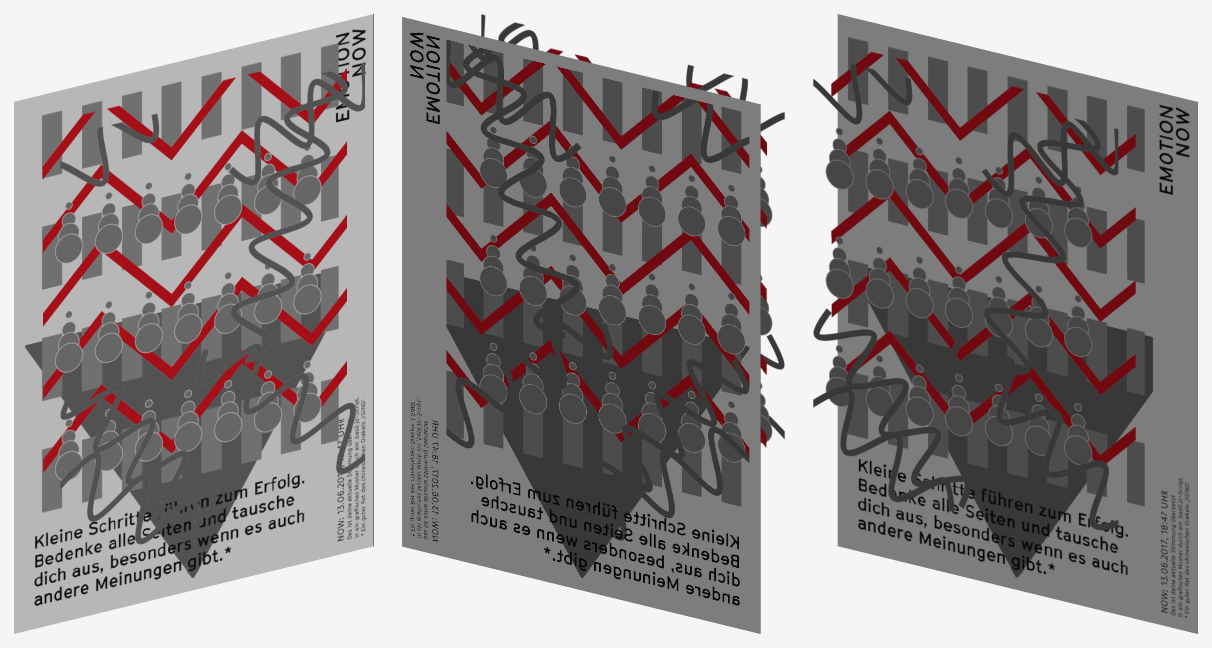
Rendered from emotion_now.glb.
3 renders of one model, left to right at view 1: azimuth 30°, elevation 25°; view 2: azimuth 150°, elevation 25°; view 3: azimuth 330°, elevation 25°, orthographic.
Parts seen in each view (by area): view 1: 01 BG remove expand, 03 rec, 05 round, 04 zigzac, 06 all curves, 01 BG original; view 2: 01 BG original, 06 all curves, 05 round, 04 zigzac; view 3: 01 BG remove expand, 03 rec, 05 round, 04 zigzac, 06 all curves, 01 BG original.
Boxes of the visible parts, <box> form: 01 BG remove expand: <box>14,14,373,633</box>; 03 rec: <box>42,43,338,512</box>; 05 round: <box>55,145,321,480</box>; 04 zigzac: <box>42,68,346,472</box>; 06 all curves: <box>60,63,364,544</box>; 01 BG original: <box>14,14,373,633</box>; 01 BG original: <box>402,17,760,633</box>; 06 all curves: <box>481,14,784,438</box>; 05 round: <box>760,166,772,443</box>; 04 zigzac: <box>546,48,766,447</box>; 01 BG remove expand: <box>837,14,1197,633</box>; 03 rec: <box>848,37,1144,506</box>; 05 round: <box>825,127,1092,464</box>; 04 zigzac: <box>831,52,1135,468</box>; 06 all curves: <box>813,64,1118,530</box>; 01 BG original: <box>840,102,1197,633</box>.
Size of the model in its own units: 0.9212 by 1.3 by 0.1562.
6 materials, 6 textured.
